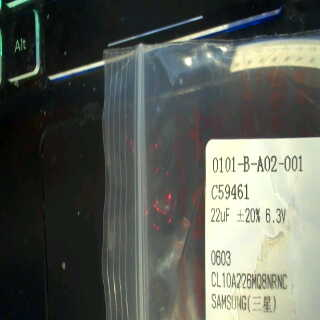22uF: (208, 204, 231, 226)
